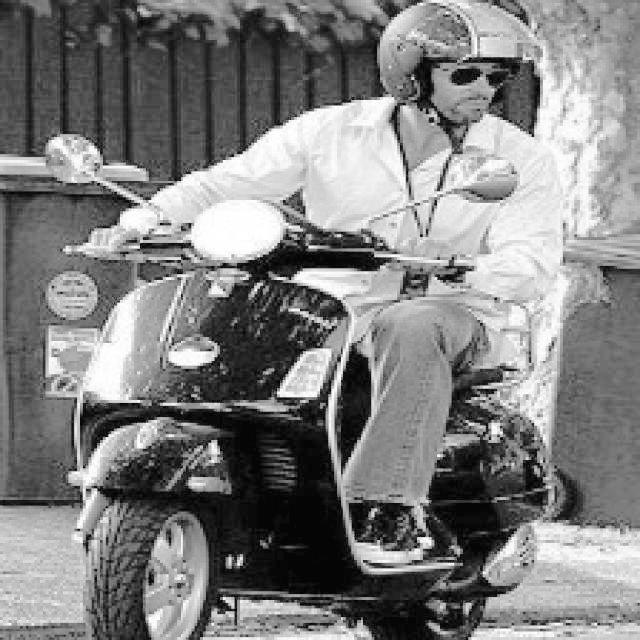Bike: (59, 184, 405, 639)
